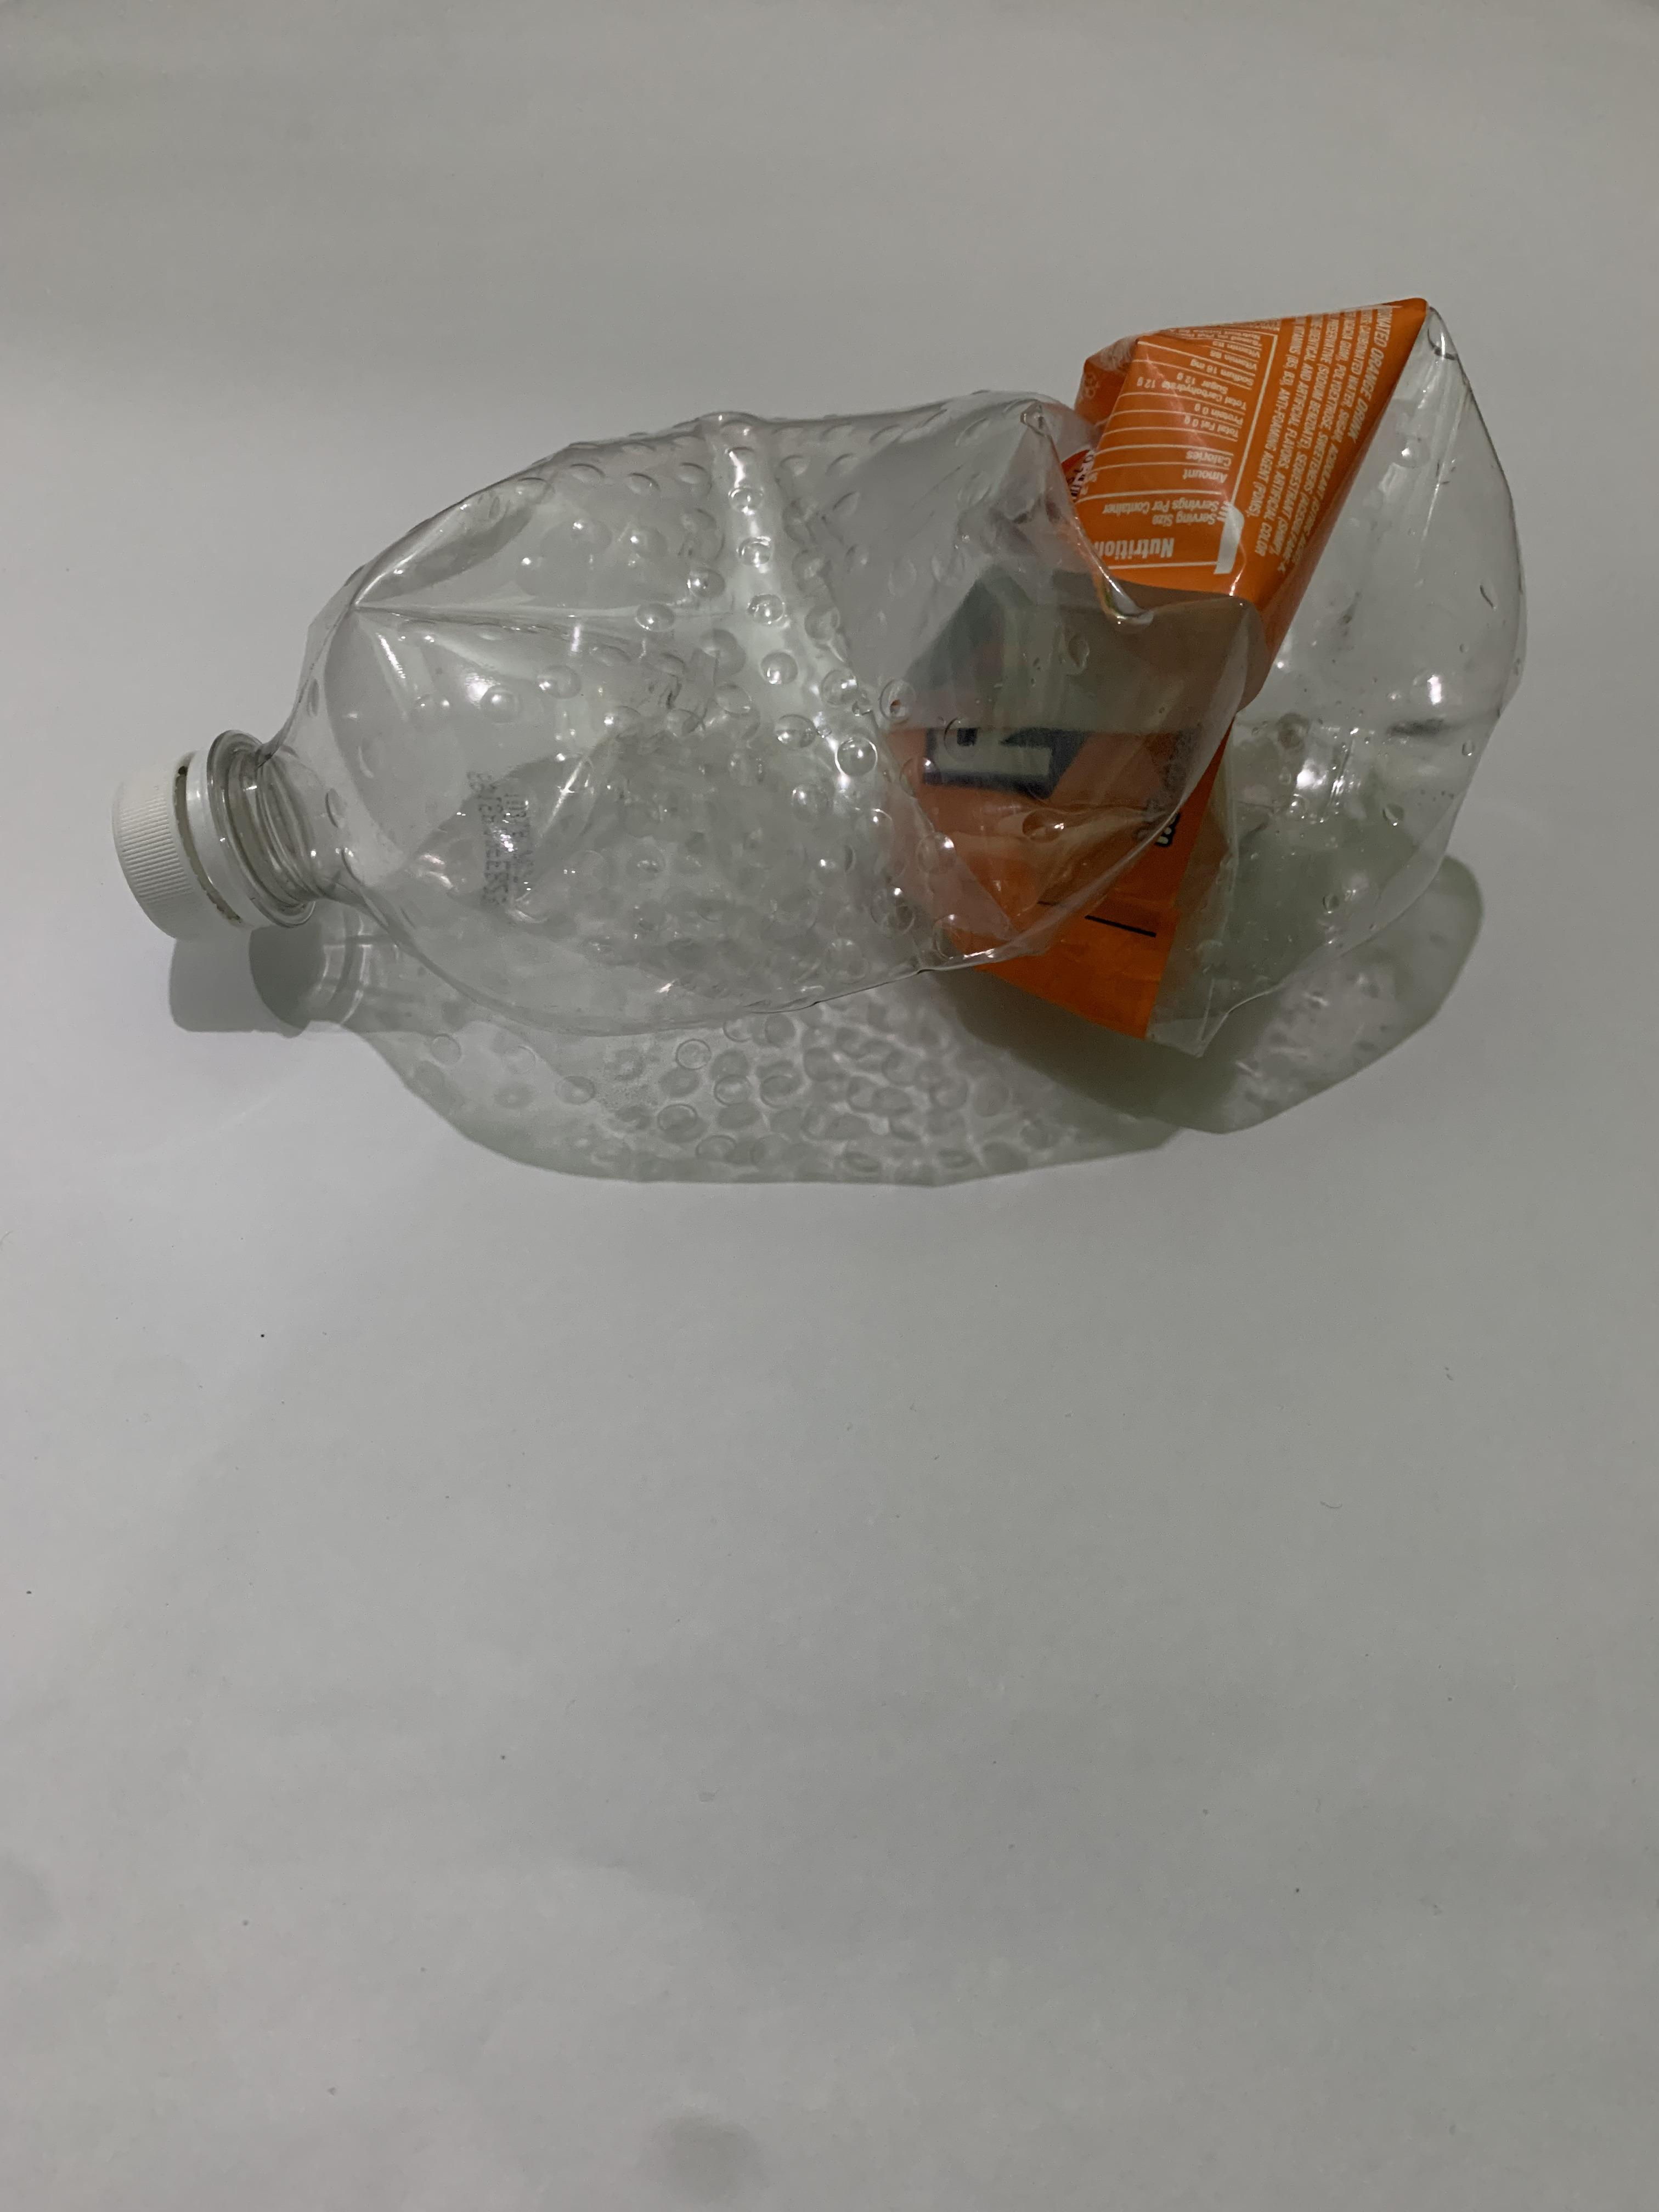bottle: (105, 275, 1535, 1080)
